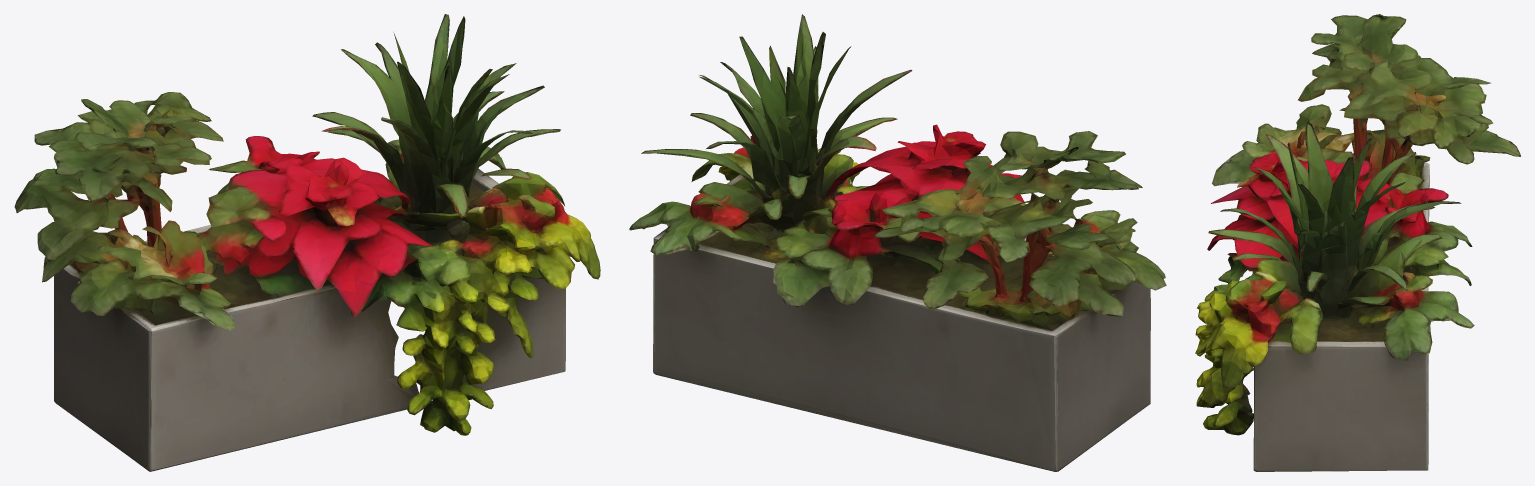
The model's file is planter_poinsettia.glb.
The picture shows the model from 3 angles, left to right: view 1: azimuth 30°, elevation 25°; view 2: azimuth 150°, elevation 25°; view 3: azimuth 270°, elevation 25°; orthographic projection. The views are drawn at different scales.
Parts seen in each view (by area): view 1: geometry_0; view 2: geometry_0; view 3: geometry_0.
Boxes of the visible parts, x1,y1,x2,y2 form: geometry_0: (14,14,600,471); geometry_0: (629,14,1166,471); geometry_0: (1195,14,1520,471).
Bounding box in the file's own units: 0.9994 × 0.678 × 0.6481.
Materials: 1 (1 with a texture image).
